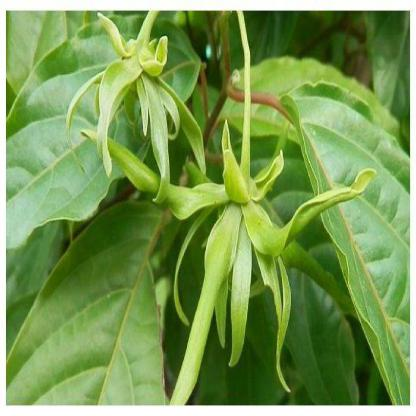Kenanga: (205, 123, 307, 307), (98, 19, 188, 157)
